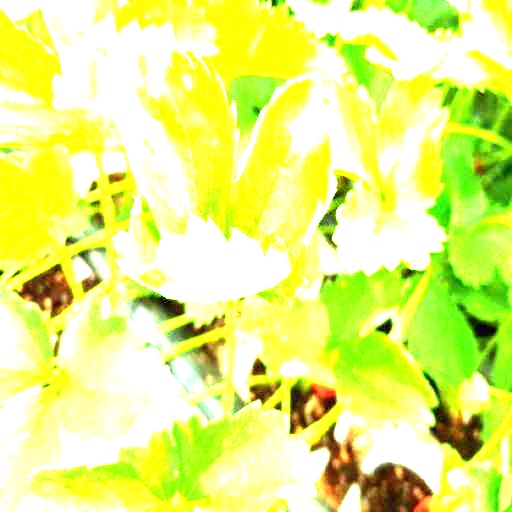Powdery Mildew Leaf: (94, 23, 241, 245), (231, 75, 337, 309), (111, 198, 299, 303), (330, 181, 447, 278)
